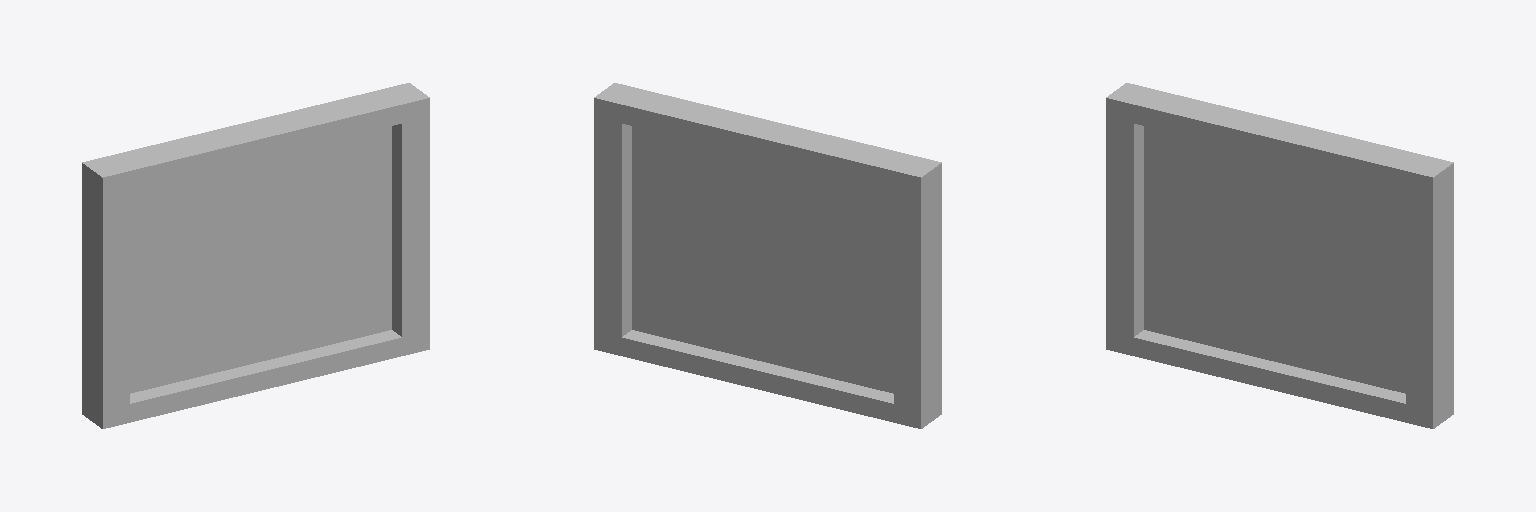
The model's file is original-3.obj.
3 views of the same model, side by side, from view 1: azimuth 30°, elevation 25°; view 2: azimuth 150°, elevation 25°; view 3: azimuth 330°, elevation 25° (orthographic).
Parts seen in each view (by area): view 1: Group3/mesh3/mesh3-geometry#mesh3-geometry; view 2: Group3/mesh3/mesh3-geometry#mesh3-geometry; view 3: Group3/mesh3/mesh3-geometry#mesh3-geometry.
Boxes of the visible parts, x1,y1,x2,y2 form: Group3/mesh3/mesh3-geometry#mesh3-geometry: [82, 83, 429, 428]; Group3/mesh3/mesh3-geometry#mesh3-geometry: [594, 83, 941, 428]; Group3/mesh3/mesh3-geometry#mesh3-geometry: [1106, 83, 1453, 428].
Size of the model in its own units: 0.3968 by 0.2915 by 0.0436.